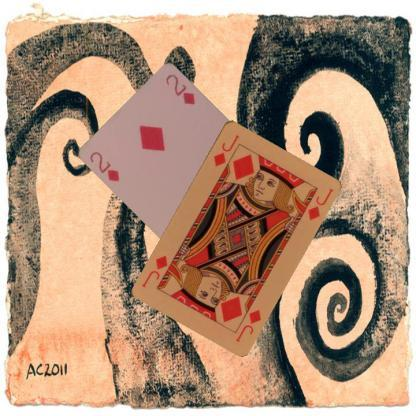2d: (88, 148, 122, 182)
Jd: (210, 131, 240, 168), (233, 306, 262, 343)
